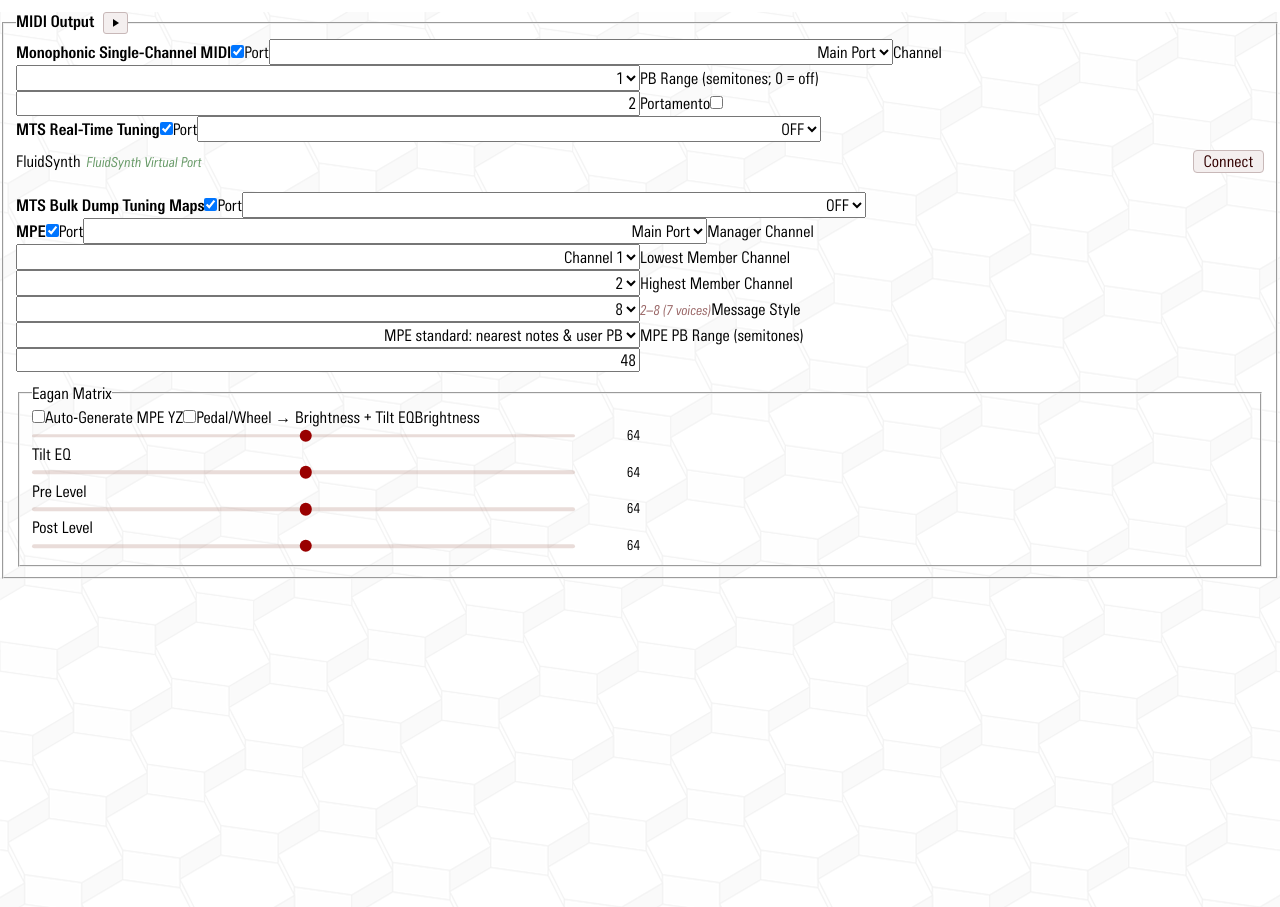
MidiOutputs FluidSynth independence › keeps enabled output routing visible while hiding descriptions and advanced controls
The image size is (1280, 907).
expect the dropdown named "Monophonic MIDI Port" is shown: met, box [269, 39, 893, 65]
expect the dropdown named "Monophonic MIDI Channel" is shown: met, box [16, 65, 640, 91]
Click the button named "Show MIDI Output settings".
click(116, 23)  # box [103, 12, 128, 34]
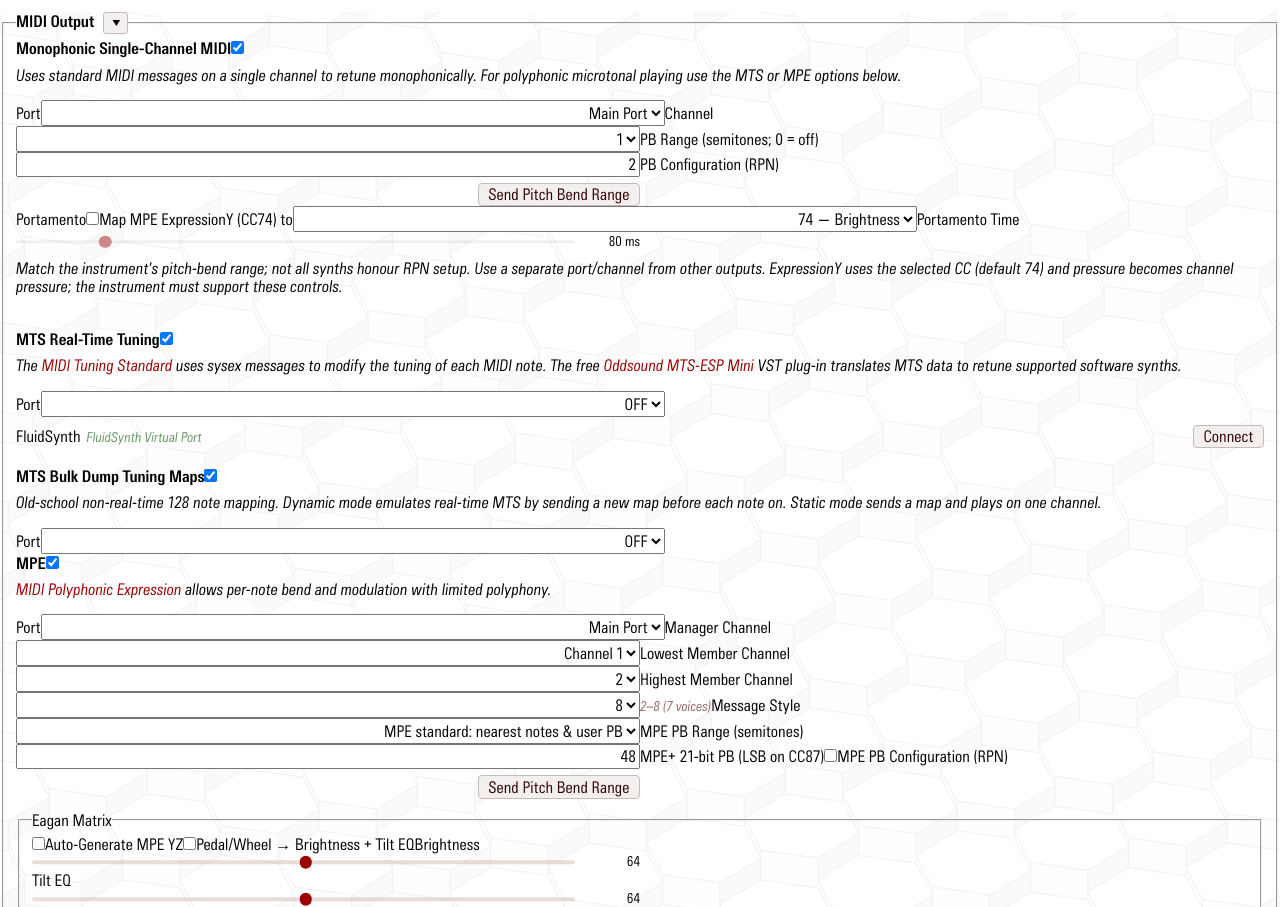
expect the 1st dropdown labelled "Port" is shown: met, box [41, 100, 665, 126]
Click the button named "Hide MIDI Output settings".
click(116, 23)  # box [103, 12, 128, 34]
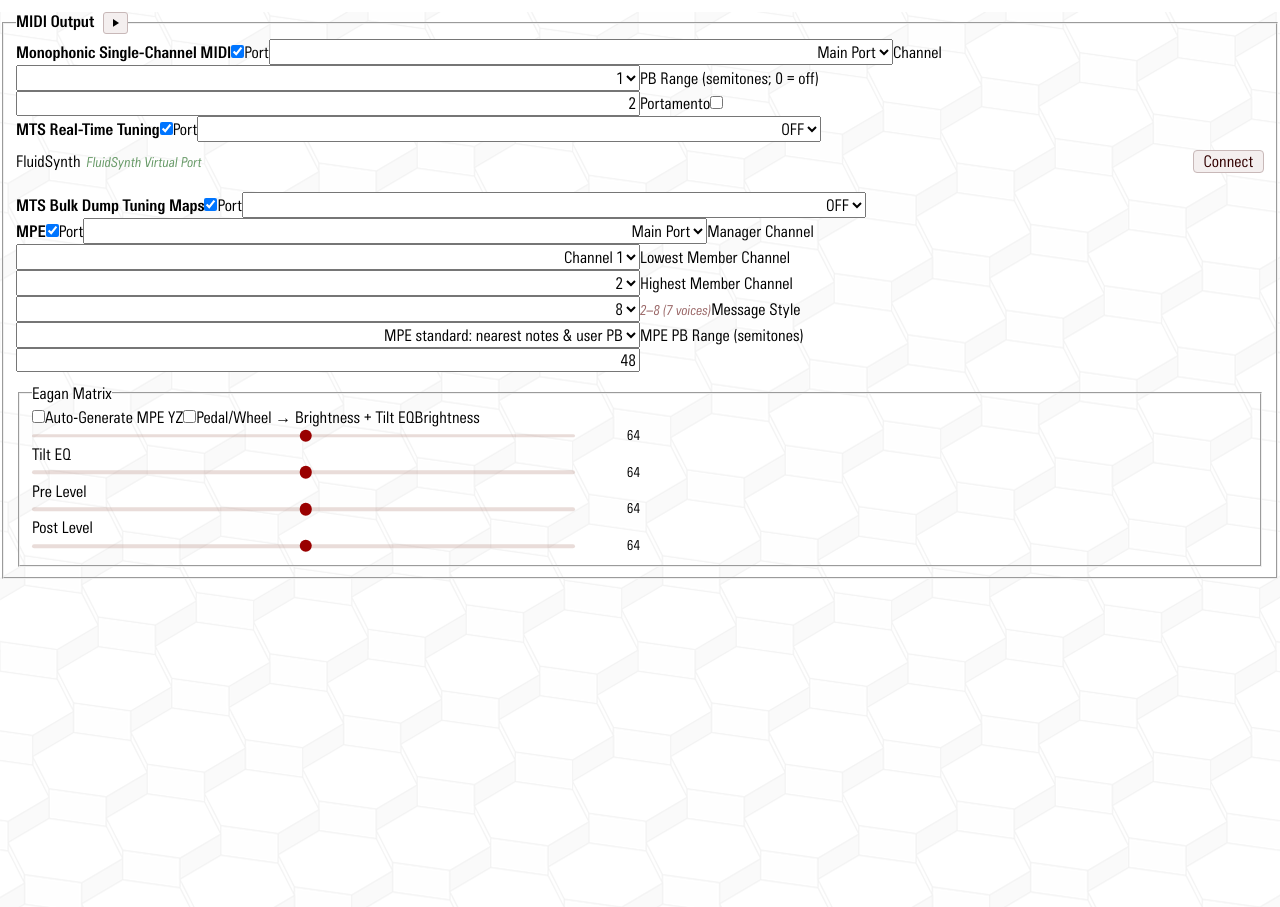
expect the dropdown named "Monophonic MIDI Channel" is shown: met, box [16, 65, 640, 91]
expect the label labelled "MPE+ 21-bit PB (LSB on CC87)" is gone: met
